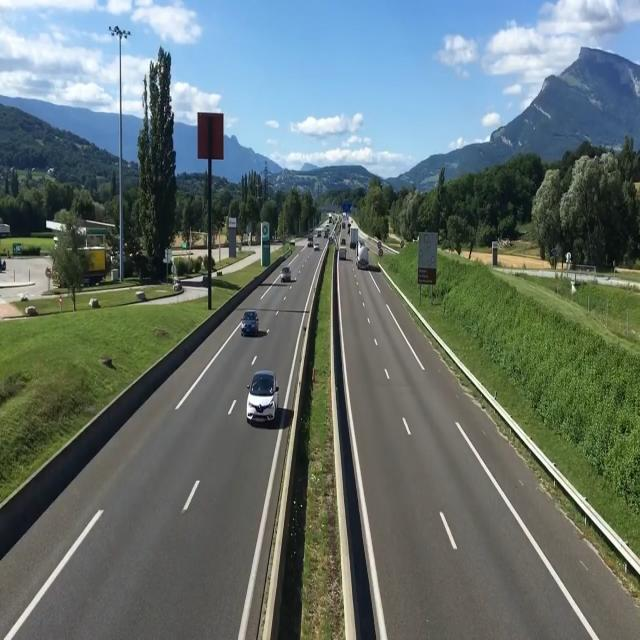car: (247, 366, 282, 430), (241, 308, 265, 338), (280, 261, 294, 289), (314, 240, 320, 256)
truck: (355, 233, 373, 275)
